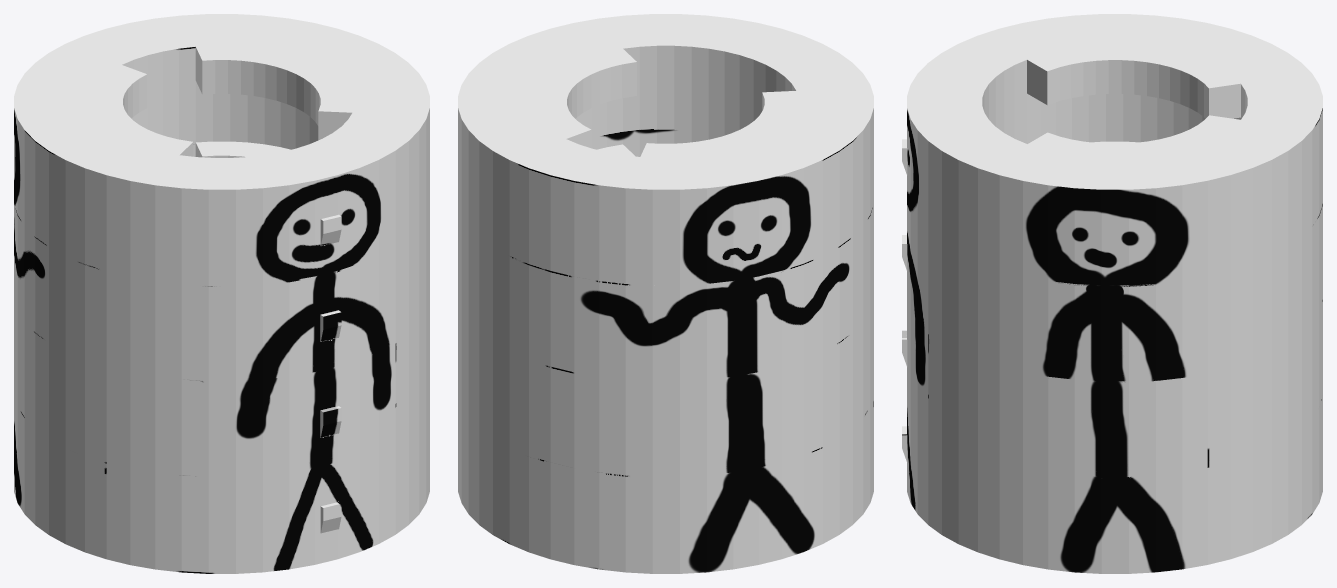
The model's file is Tower3_P3.fbx.
The picture shows the model from 3 angles, left to right: view 1: azimuth 30°, elevation 25°; view 2: azimuth 150°, elevation 25°; view 3: azimuth 270°, elevation 25°; orthographic projection.
Visible parts, largest first — view 1: Tower3_P3x4.003, Tower3_P3x4.002, Tower3_P3x4, Tower3_P3x4.001; view 2: Tower3_P3x4.003, Tower3_P3x4, Tower3_P3x4.002, Tower3_P3x4.001; view 3: Tower3_P3x4.003, Tower3_P3x4, Tower3_P3x4.002, Tower3_P3x4.001.
Part boxes in pixels (x1,y1,x2,y2): Tower3_P3x4.003: (14,14,429,286); Tower3_P3x4.002: (14,141,429,382); Tower3_P3x4: (14,395,429,573); Tower3_P3x4.001: (14,299,429,478); Tower3_P3x4.003: (458,14,873,285); Tower3_P3x4: (458,395,873,573); Tower3_P3x4.002: (458,143,873,381); Tower3_P3x4.001: (458,299,873,476); Tower3_P3x4.003: (902,14,1322,286); Tower3_P3x4: (902,395,1322,573); Tower3_P3x4.002: (902,141,1322,382); Tower3_P3x4.001: (902,299,1322,478).
Bounding box in the file's own units: 3939 × 4014 × 3986.
4 materials, 4 textured.
